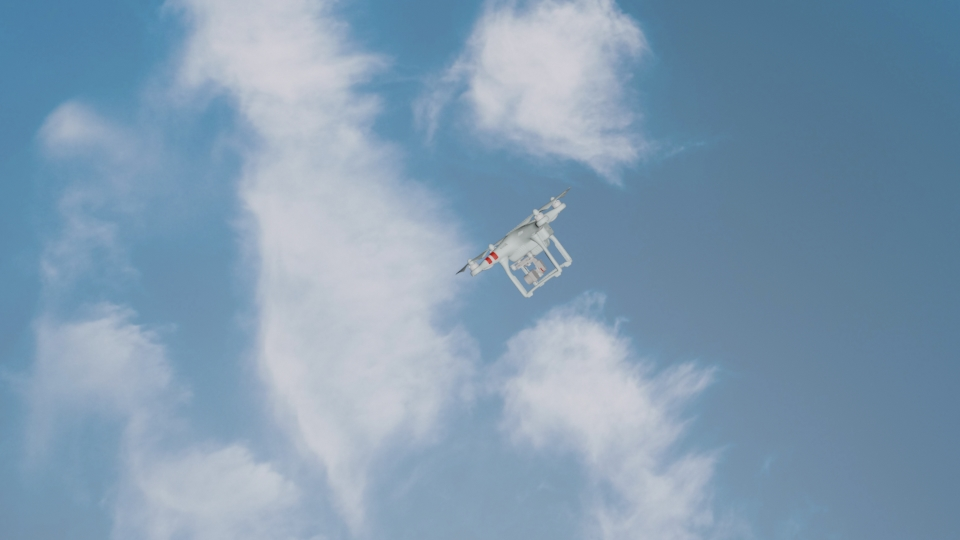drone: (457, 189, 577, 292)
